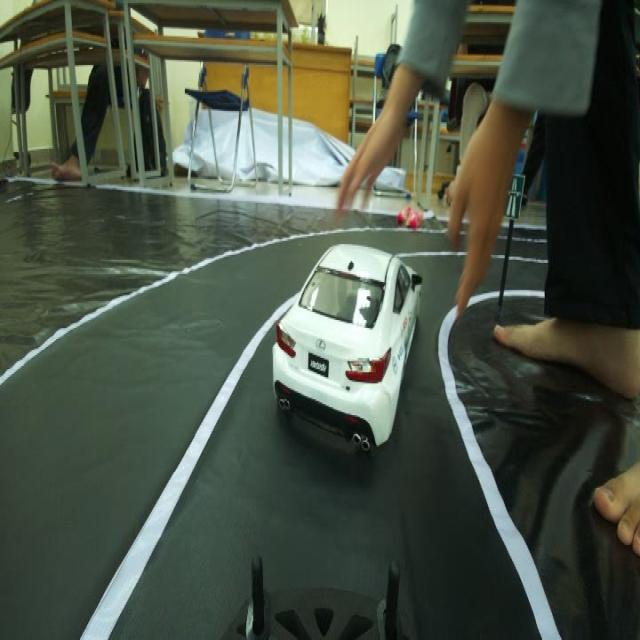car: (250, 209, 416, 480)
